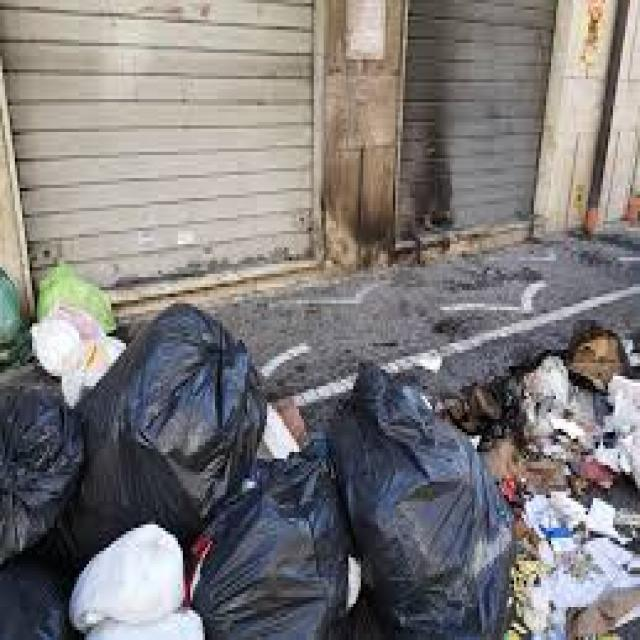garbage: (0, 260, 637, 640)
